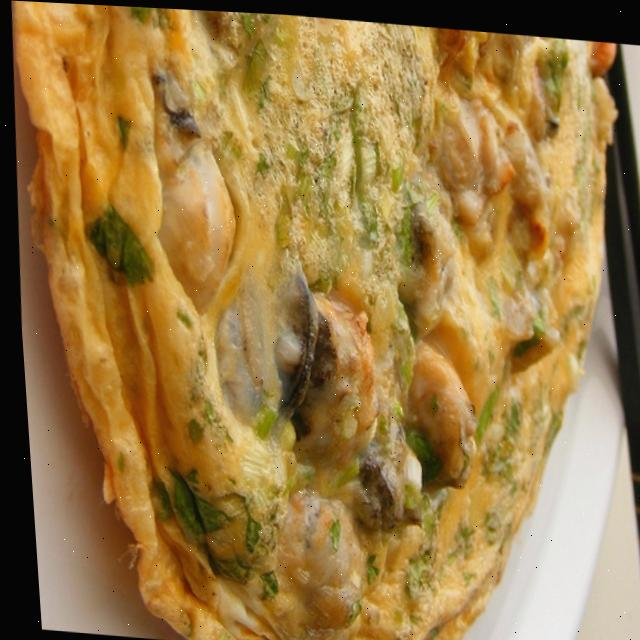熟制海鲜: (7, 0, 640, 640)
